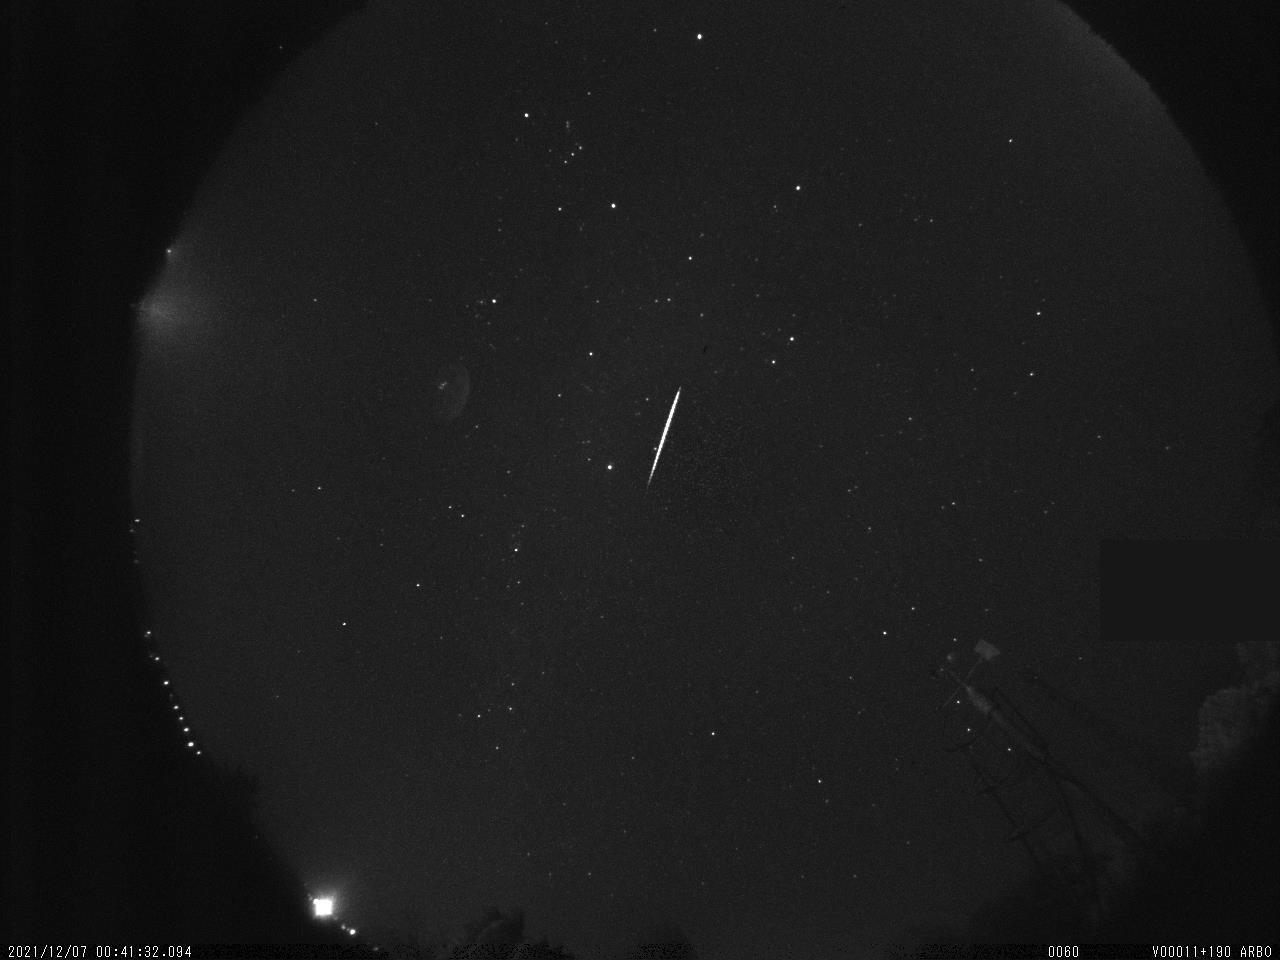meteor: (631, 377, 696, 492)
